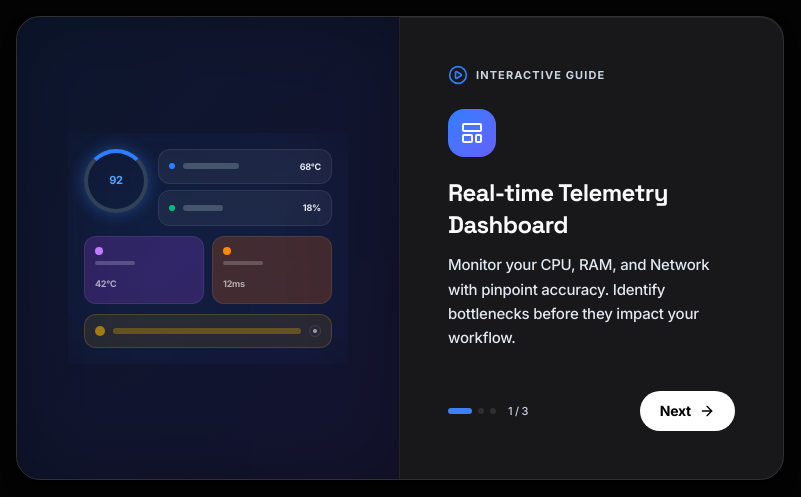
Test: OnboardingModal › advances to the next step when Next is clicked
This screenshot has width=801, height=497.
Click the button "Next". click: (687, 411)
box: [640,391,735,431]
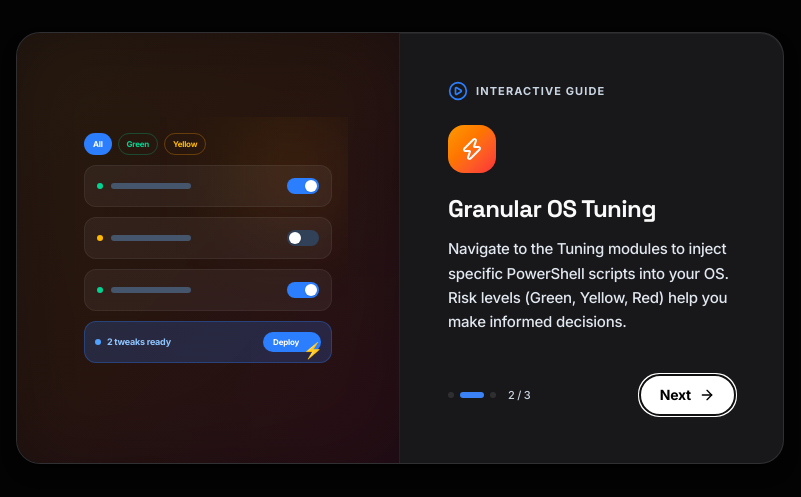
Check: the heading "Granular OS Tuning" is shown, box [448,193,656,224]
